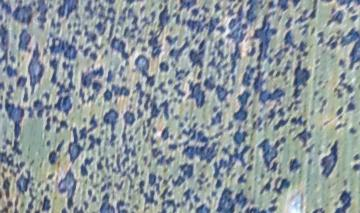tarspot: (245, 11, 278, 68), (4, 83, 26, 156), (227, 3, 248, 75), (325, 27, 360, 70), (146, 2, 171, 59), (212, 143, 251, 178), (255, 135, 286, 172), (46, 58, 77, 95), (27, 41, 47, 95), (253, 70, 283, 105), (207, 36, 228, 84), (214, 186, 248, 213), (58, 167, 78, 209), (180, 141, 218, 163), (181, 121, 223, 140), (185, 15, 221, 37), (132, 53, 155, 87), (292, 60, 312, 99), (320, 139, 339, 180), (49, 35, 76, 62), (79, 62, 104, 91), (68, 127, 85, 165), (103, 108, 119, 148), (82, 23, 104, 51), (168, 35, 190, 63), (82, 1, 111, 22), (186, 79, 206, 109), (144, 91, 160, 128), (233, 91, 251, 123), (158, 188, 181, 213), (11, 1, 33, 27), (1, 151, 26, 173), (14, 169, 35, 195), (35, 1, 53, 31), (119, 109, 134, 143), (78, 114, 97, 140), (290, 127, 313, 148), (31, 98, 52, 121), (333, 189, 353, 213), (110, 35, 130, 59), (335, 71, 354, 96), (52, 94, 74, 115), (231, 124, 250, 148), (55, 1, 80, 19), (1, 23, 11, 66), (17, 27, 32, 55), (51, 114, 69, 136), (272, 176, 291, 196), (188, 49, 206, 70), (142, 190, 158, 213), (326, 9, 345, 28), (85, 133, 102, 153), (98, 193, 115, 213), (86, 133, 103, 153), (132, 81, 145, 107), (241, 64, 255, 88), (126, 7, 139, 32), (25, 186, 37, 213), (258, 176, 274, 196), (110, 83, 131, 98), (245, 1, 259, 23), (139, 11, 157, 28), (317, 1, 360, 8), (282, 30, 298, 48), (174, 66, 190, 83), (215, 85, 230, 103), (80, 156, 93, 176), (178, 162, 194, 178), (159, 99, 170, 122), (272, 118, 291, 131), (177, 1, 199, 12), (1, 176, 12, 198), (147, 172, 162, 188), (171, 82, 186, 98), (288, 156, 302, 173), (203, 73, 217, 90), (114, 199, 131, 213), (290, 115, 308, 128), (89, 172, 102, 190), (122, 144, 132, 167), (153, 82, 169, 96), (315, 30, 326, 50), (113, 152, 122, 176), (318, 97, 328, 118), (46, 150, 59, 166), (274, 47, 291, 59), (308, 1, 318, 21), (42, 193, 52, 213), (286, 99, 301, 112), (268, 197, 280, 213), (298, 23, 310, 39), (299, 40, 309, 59), (281, 59, 292, 76), (209, 112, 223, 125), (165, 33, 179, 46), (14, 76, 29, 88), (331, 86, 343, 101), (102, 88, 114, 103), (104, 155, 114, 173), (243, 206, 267, 213), (158, 61, 170, 75), (94, 22, 106, 36), (91, 80, 102, 95), (160, 125, 169, 143), (77, 86, 85, 106), (54, 139, 66, 152), (236, 172, 248, 185), (1, 1, 13, 14), (162, 174, 173, 188), (225, 4, 236, 18), (195, 204, 212, 213), (332, 121, 349, 130), (105, 69, 114, 86), (73, 19, 82, 36), (106, 25, 114, 44), (171, 176, 186, 186), (299, 8, 309, 23), (22, 85, 30, 103), (345, 101, 356, 114), (86, 93, 97, 106), (1, 200, 12, 213), (195, 178, 209, 188), (224, 119, 234, 133), (103, 15, 117, 25), (44, 116, 52, 133), (116, 63, 125, 78), (131, 163, 140, 178), (183, 187, 192, 202), (151, 147, 163, 158), (245, 46, 256, 58), (113, 179, 125, 190), (277, 1, 290, 11), (136, 108, 145, 122), (149, 133, 158, 147), (290, 1, 302, 11), (39, 91, 51, 101), (96, 155, 104, 170), (214, 177, 223, 190), (13, 194, 19, 213), (164, 155, 178, 163), (6, 64, 14, 78), (284, 16, 292, 30), (336, 58, 346, 69), (88, 51, 98, 62), (154, 155, 165, 165), (47, 170, 58, 180), (349, 13, 359, 24), (267, 108, 276, 120), (198, 39, 207, 51), (213, 2, 222, 14), (174, 12, 181, 27), (230, 74, 238, 87), (144, 127, 150, 144), (347, 126, 357, 136), (335, 106, 345, 116), (130, 203, 140, 213), (215, 25, 226, 34), (106, 6, 117, 15), (196, 69, 204, 81), (277, 106, 285, 118), (27, 105, 34, 118), (49, 17, 56, 30), (351, 162, 360, 172), (351, 152, 360, 162), (54, 27, 63, 37), (83, 47, 92, 57), (200, 5, 210, 14), (136, 37, 146, 46), (131, 142, 137, 157), (306, 144, 315, 154), (81, 199, 90, 209), (161, 165, 171, 174), (321, 119, 332, 127), (190, 7, 198, 18), (73, 205, 84, 213), (311, 206, 323, 213), (141, 123, 147, 137), (123, 26, 129, 40), (256, 115, 263, 127), (193, 191, 200, 203), (198, 170, 207, 179), (70, 35, 79, 44), (268, 1, 277, 10), (118, 14, 127, 23), (347, 6, 356, 15), (341, 177, 349, 187), (167, 143, 177, 151), (43, 182, 51, 192), (100, 182, 107, 193), (183, 110, 190, 121), (306, 157, 314, 166), (316, 79, 324, 88), (8, 54, 17, 62), (11, 68, 19, 77), (246, 164, 254, 173), (140, 45, 148, 54), (266, 56, 274, 65), (4, 137, 13, 145), (274, 57, 281, 67), (134, 125, 141, 135), (266, 118, 273, 128), (137, 185, 144, 195), (106, 181, 113, 191), (310, 26, 316, 37), (188, 202, 194, 213), (258, 172, 266, 180), (209, 190, 217, 198), (77, 43, 85, 51), (120, 76, 128, 84), (267, 69, 275, 77), (41, 47, 48, 56), (125, 1, 146, 4), (139, 5, 146, 14), (293, 105, 299, 115), (275, 69, 281, 79), (172, 1, 178, 11), (37, 180, 43, 190), (87, 188, 93, 198), (59, 207, 69, 213), (44, 140, 52, 147), (312, 90, 320, 97), (314, 57, 321, 65), (172, 113, 180, 120), (177, 121, 184, 129), (16, 60, 23, 68), (55, 20, 62, 28), (47, 31, 54, 39), (75, 103, 82, 111), (138, 180, 146, 187), (103, 48, 110, 56), (1, 144, 9, 151), (90, 196, 98, 203), (181, 16, 186, 27), (66, 21, 72, 30), (250, 147, 256, 156), (130, 32, 136, 41), (146, 160, 152, 169), (310, 109, 316, 118), (101, 173, 107, 182), (81, 116, 88, 123), (20, 55, 27, 62), (211, 105, 218, 112), (150, 127, 157, 134), (288, 50, 295, 57), (129, 47, 136, 54), (149, 1, 156, 8), (171, 11, 178, 18), (167, 78, 173, 86), (104, 1, 116, 5), (283, 79, 289, 87), (168, 25, 174, 33), (295, 52, 301, 60), (167, 190, 173, 198), (72, 20, 77, 29), (277, 14, 282, 23), (114, 26, 119, 35), (128, 134, 133, 143), (330, 6, 335, 15), (169, 133, 174, 142), (316, 149, 322, 156), (249, 155, 256, 161), (123, 60, 130, 66), (137, 140, 143, 147), (224, 102, 230, 109), (1, 11, 5, 21), (1, 81, 5, 91), (259, 4, 267, 9), (158, 2, 163, 10), (252, 121, 256, 131), (1, 170, 6, 178), (293, 18, 299, 24), (172, 97, 178, 103), (177, 98, 183, 104), (190, 114, 196, 120), (30, 182, 36, 188), (257, 127, 263, 133), (143, 155, 148, 162), (259, 107, 264, 114), (127, 193, 132, 200), (176, 133, 180, 141), (33, 209, 41, 213), (206, 182, 212, 187), (1, 66, 6, 72), (194, 39, 199, 45), (137, 146, 142, 152), (107, 174, 112, 180), (283, 76, 289, 80), (236, 1, 244, 4), (1, 189, 3, 200), (32, 1, 36, 6), (258, 1, 263, 5), (227, 1, 237, 3), (1, 102, 3, 111), (1, 94, 4, 100), (162, 1, 170, 3), (93, 1, 99, 3)
